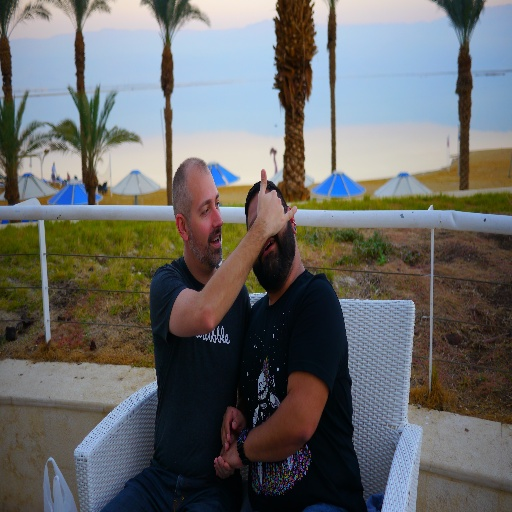hand: (245, 181, 291, 238), (219, 405, 243, 454), (213, 454, 236, 479), (220, 444, 241, 470)
